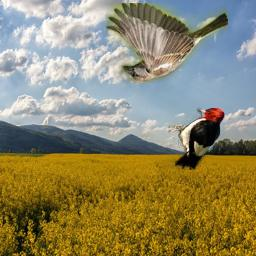Sparrow: (106, 3, 228, 83)
Woodpecker: (168, 107, 226, 170)
